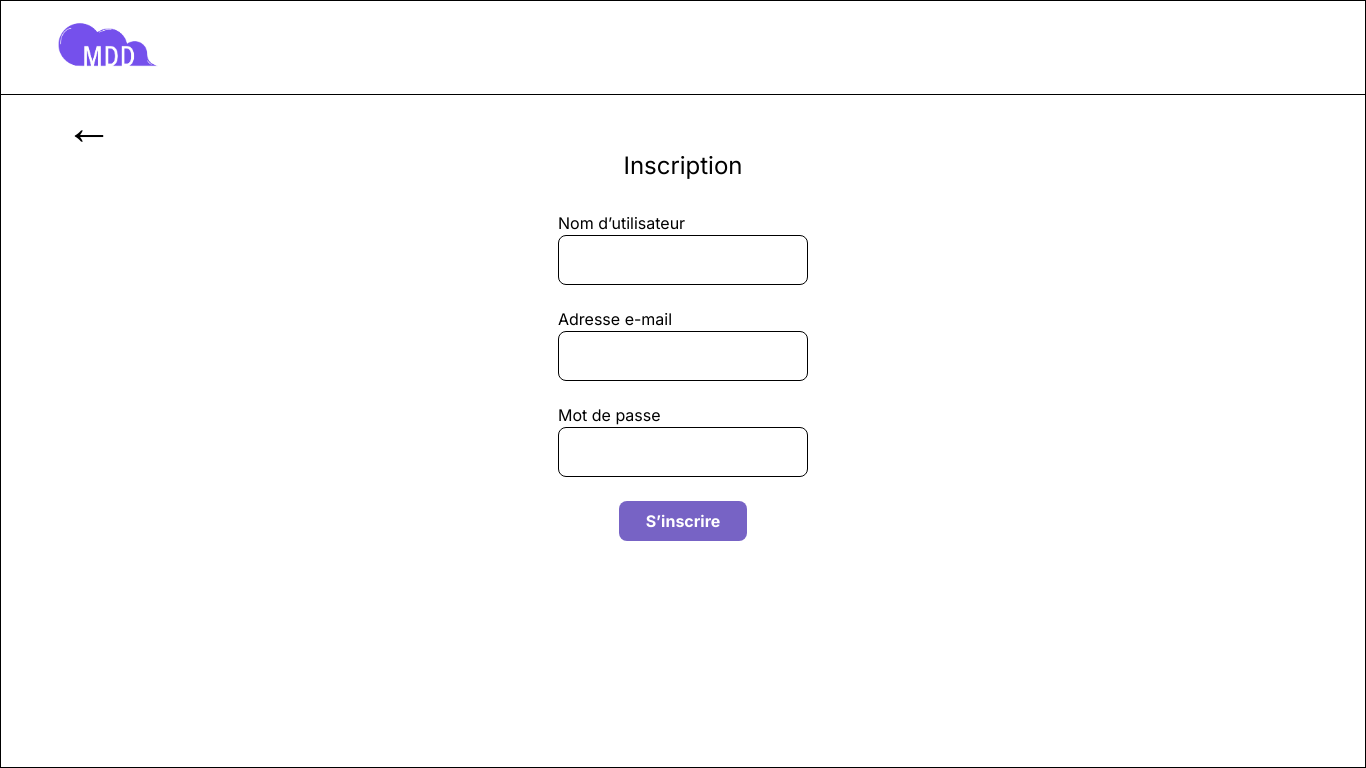
Test: Registration › displays a notification with the backend message for a global error
Type "orlando" into the field with id "username" at (683, 260), box [558,235,808,285]
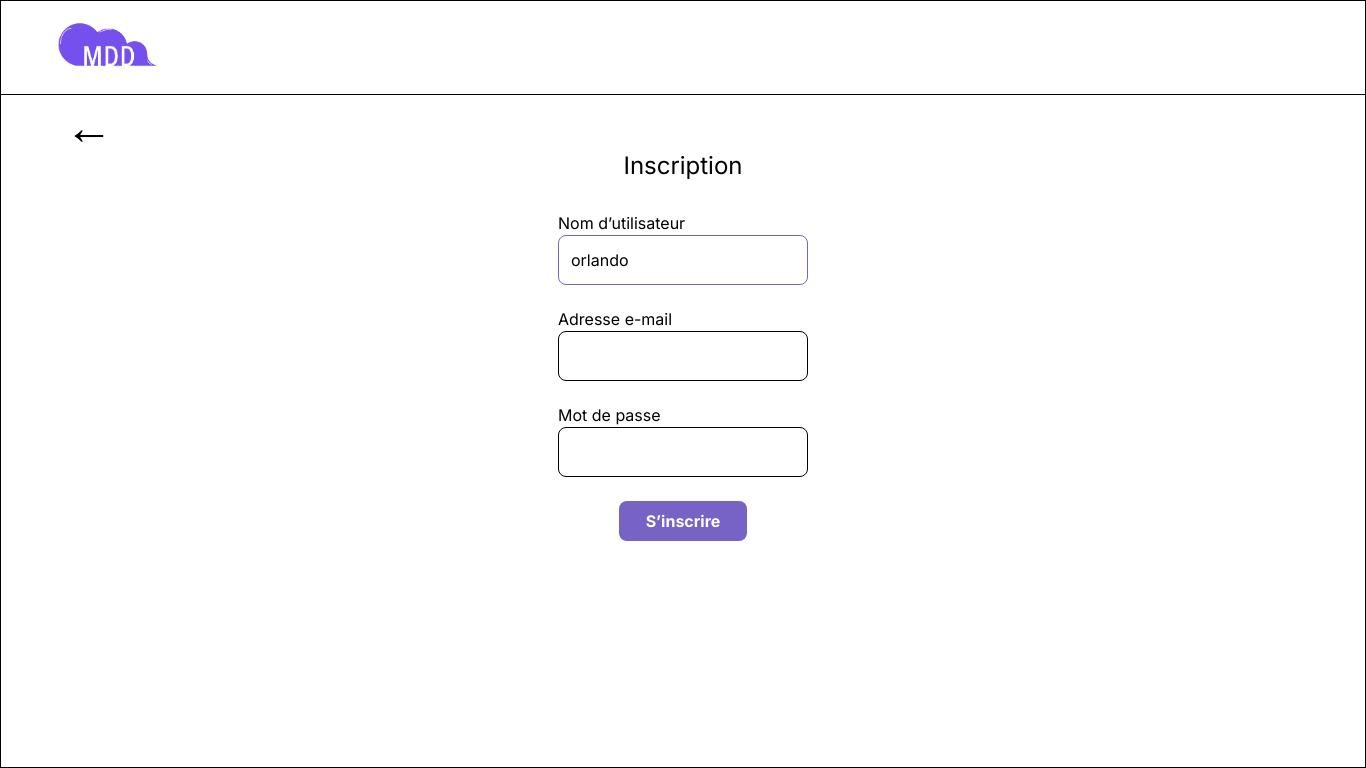
Type "orlando@example.com" into the field with id "email" at (683, 356), box [558,331,808,381]
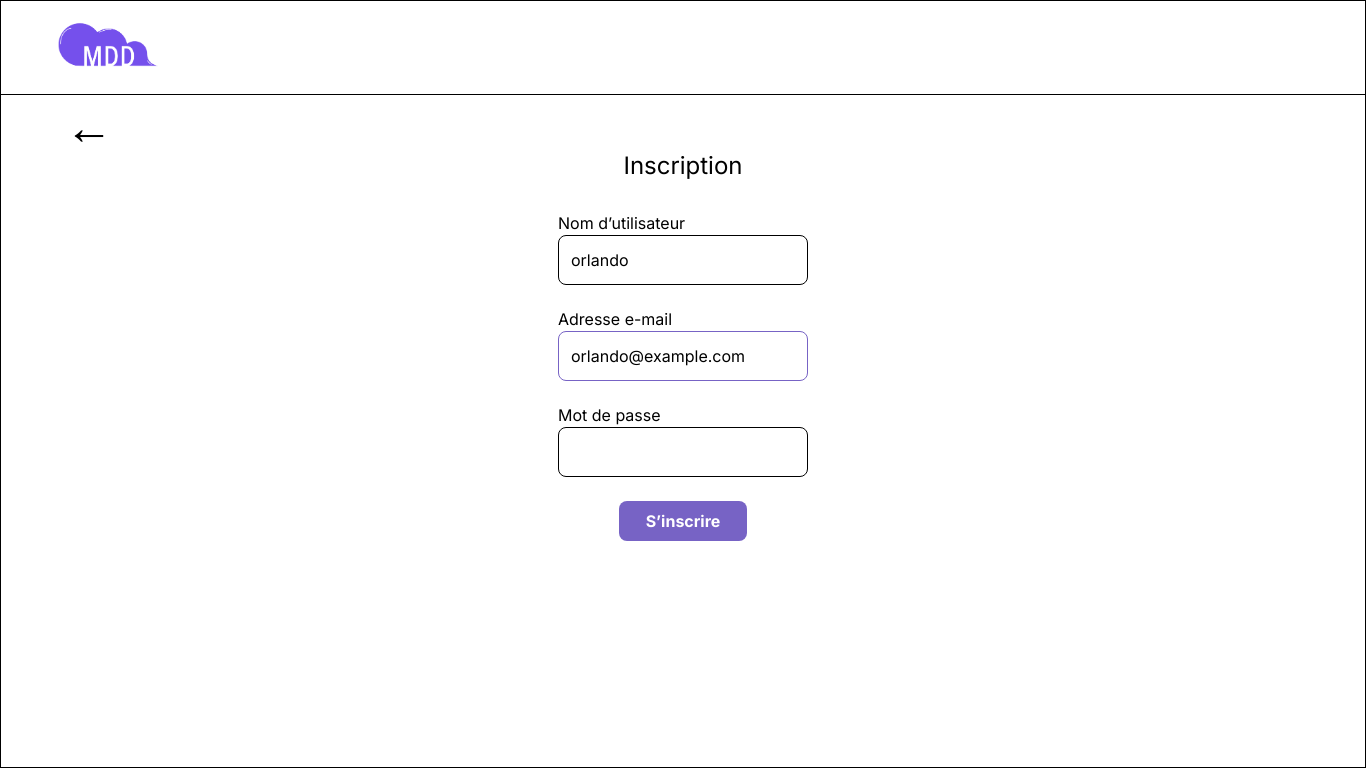
Type "Orion2026!" into the password field labelled "Mot de passe" at (683, 452), box [558,427,808,477]
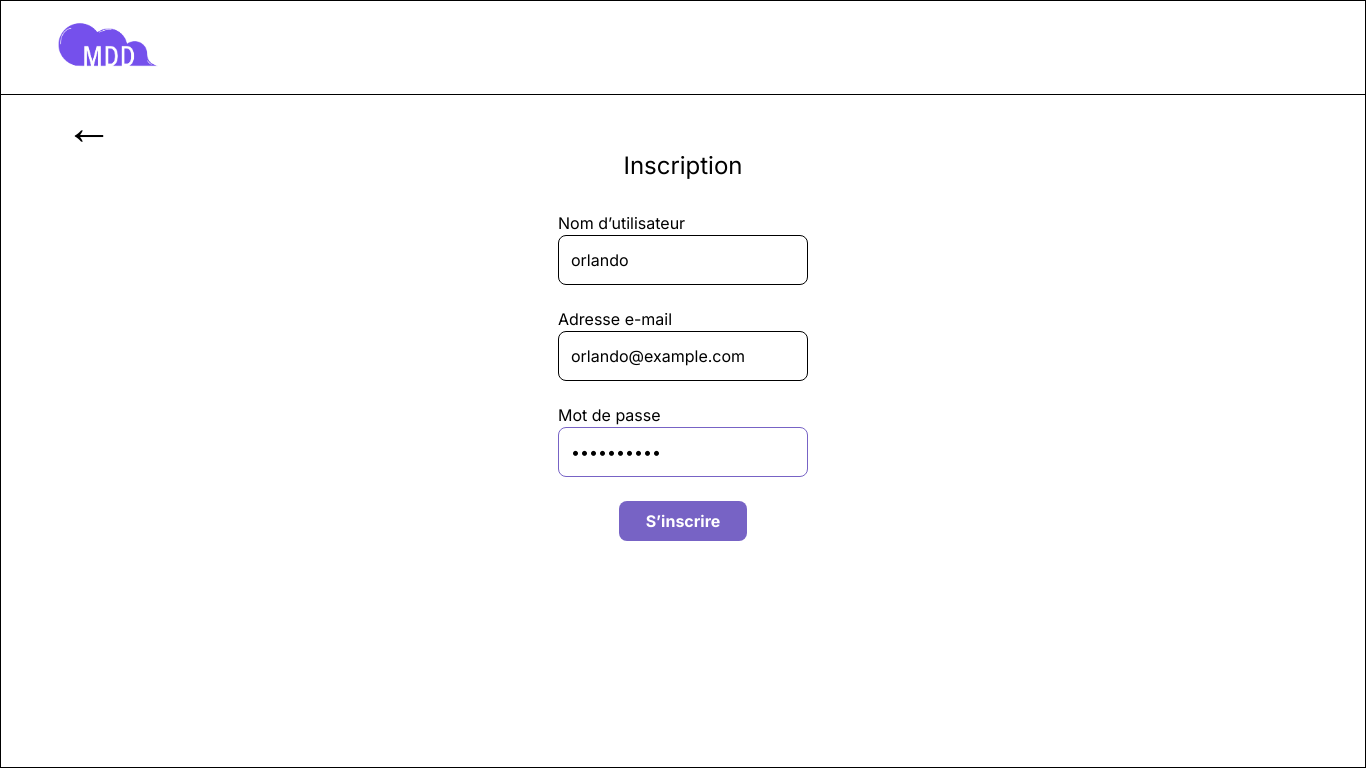
Click the button "S’inscrire" at (683, 521), box [619,501,747,541]
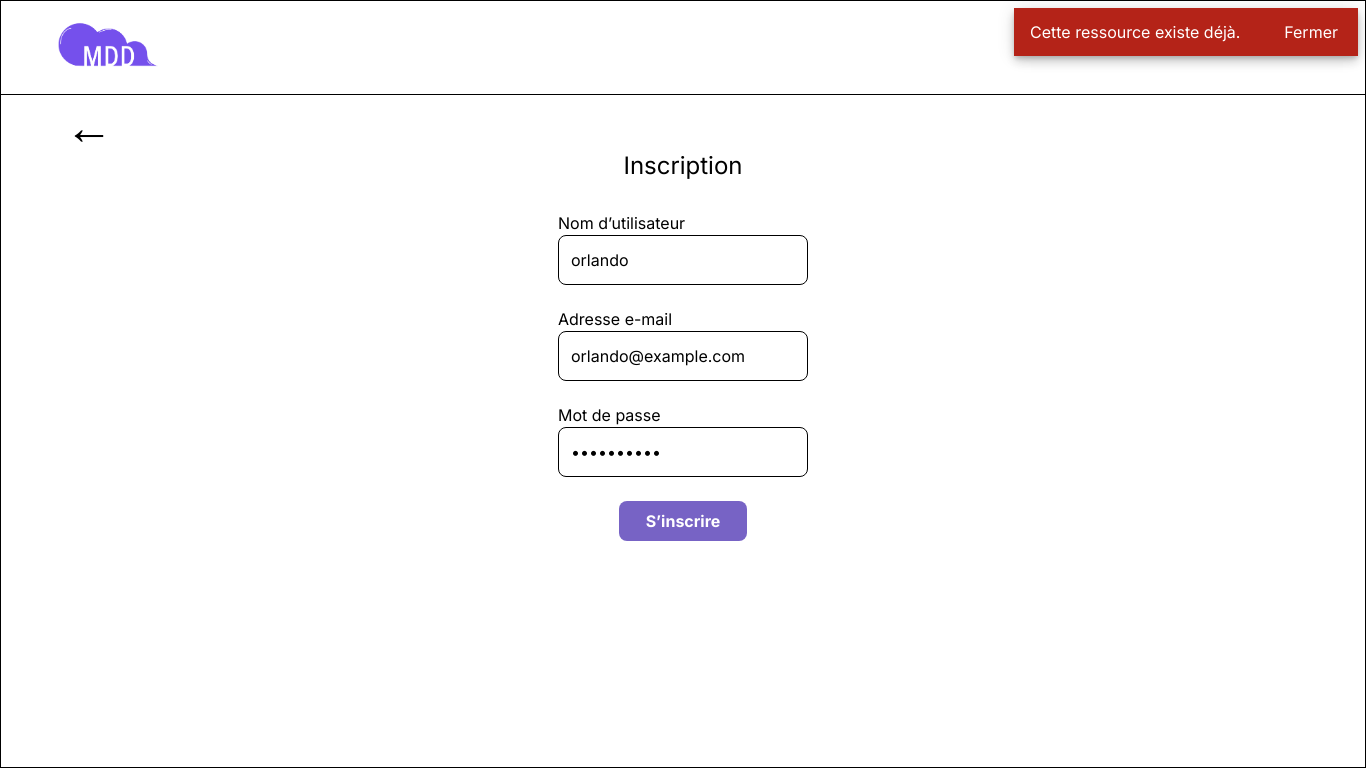
Now the text "Cette ressource existe déjà." is shown, box [1030,22,1240,42]
